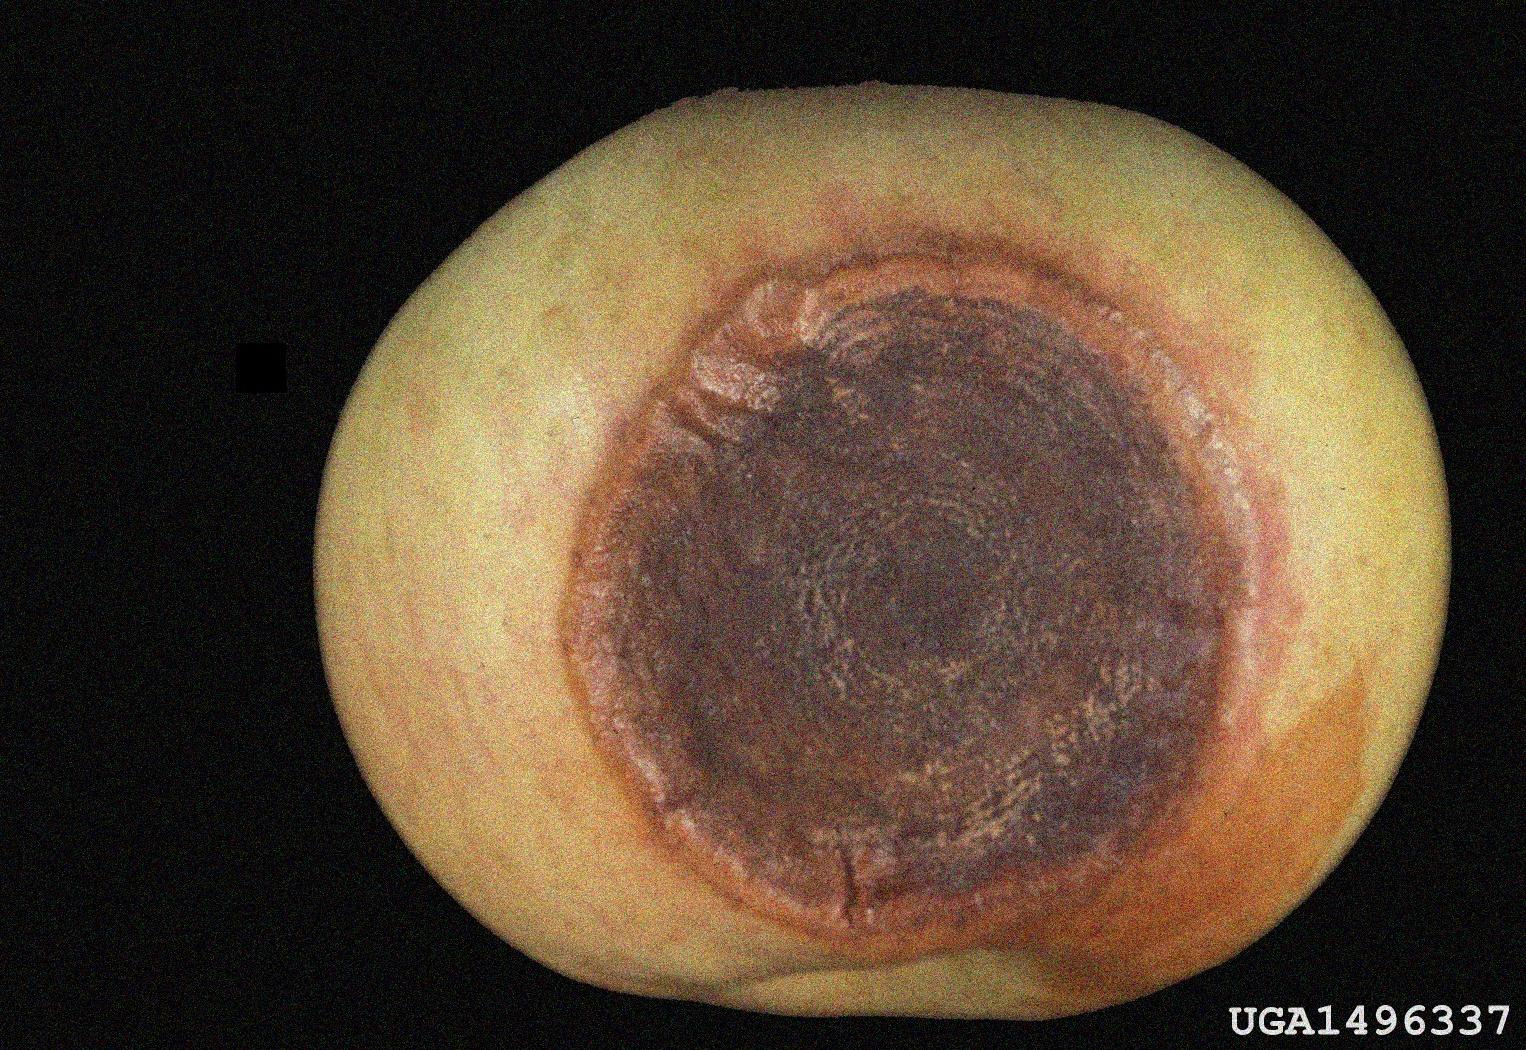rotten apple: (301, 83, 1455, 1025)
